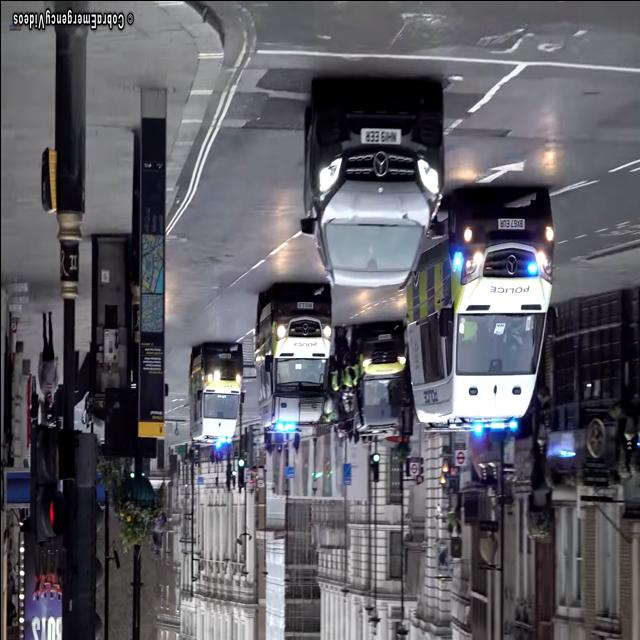emergency-vehicles: (388, 176, 566, 448), (252, 277, 348, 435), (181, 344, 252, 448)
